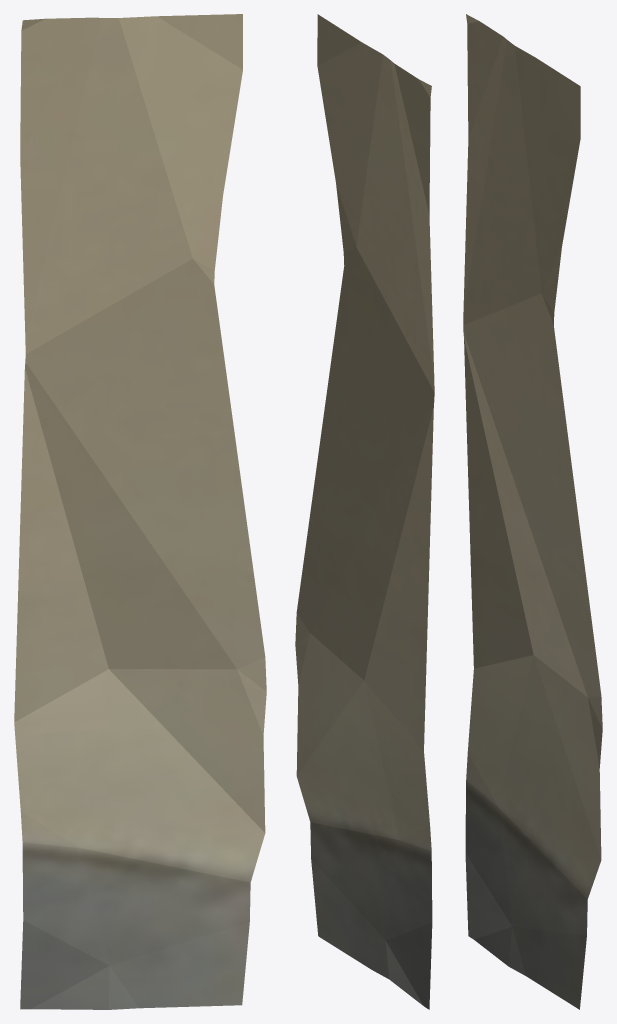
3 views of the same model, side by side, from view 1: azimuth 30°, elevation 25°; view 2: azimuth 150°, elevation 25°; view 3: azimuth 330°, elevation 25° (orthographic). The views are drawn at different scales.
Size of the model in its own units: 0.1728 by 0.8374 by 0.0875.
1 material, 1 textured.
